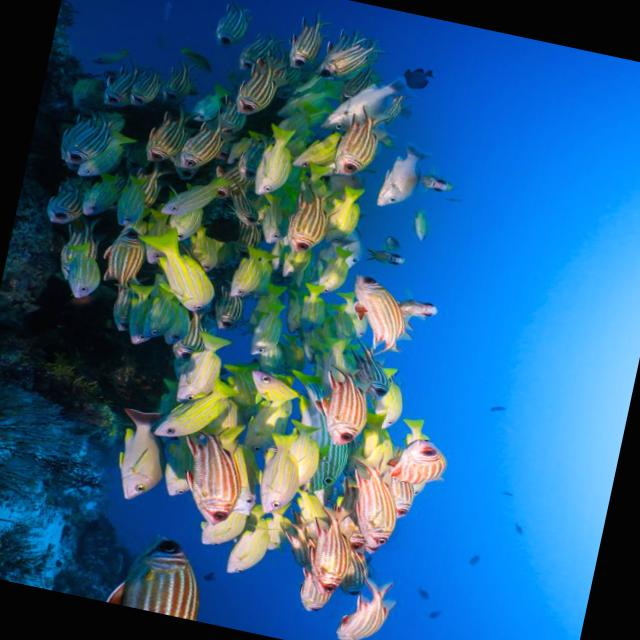Asker Baligi: (333, 456, 414, 554), (346, 260, 416, 360), (116, 526, 190, 616), (182, 434, 250, 528), (291, 501, 356, 596), (318, 582, 415, 640), (387, 425, 448, 502), (310, 26, 384, 87), (50, 108, 120, 170), (276, 10, 340, 77), (326, 110, 384, 182), (318, 370, 370, 448), (201, 0, 264, 54), (94, 223, 148, 286), (88, 64, 150, 116), (229, 60, 287, 113), (172, 120, 228, 174), (282, 192, 326, 260)
